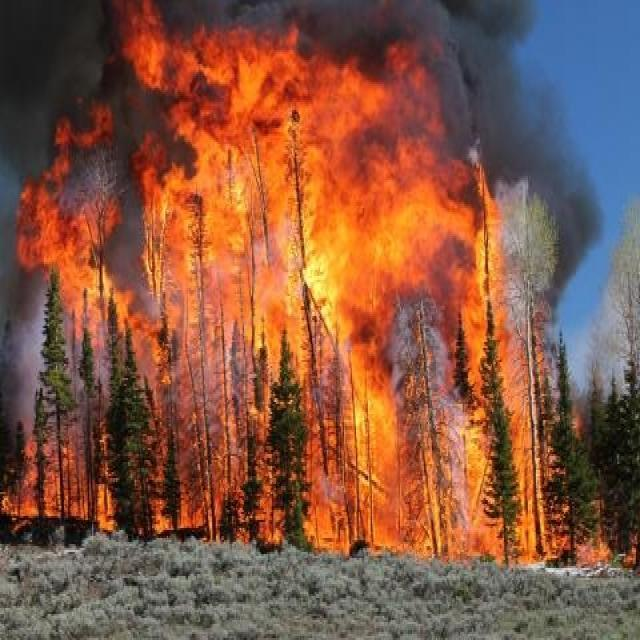Fire: (13, 0, 640, 568)
